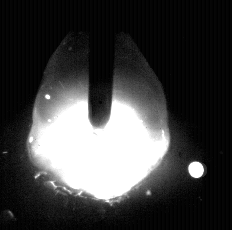arame: (88, 0, 112, 128)
poca: (27, 0, 172, 230)
